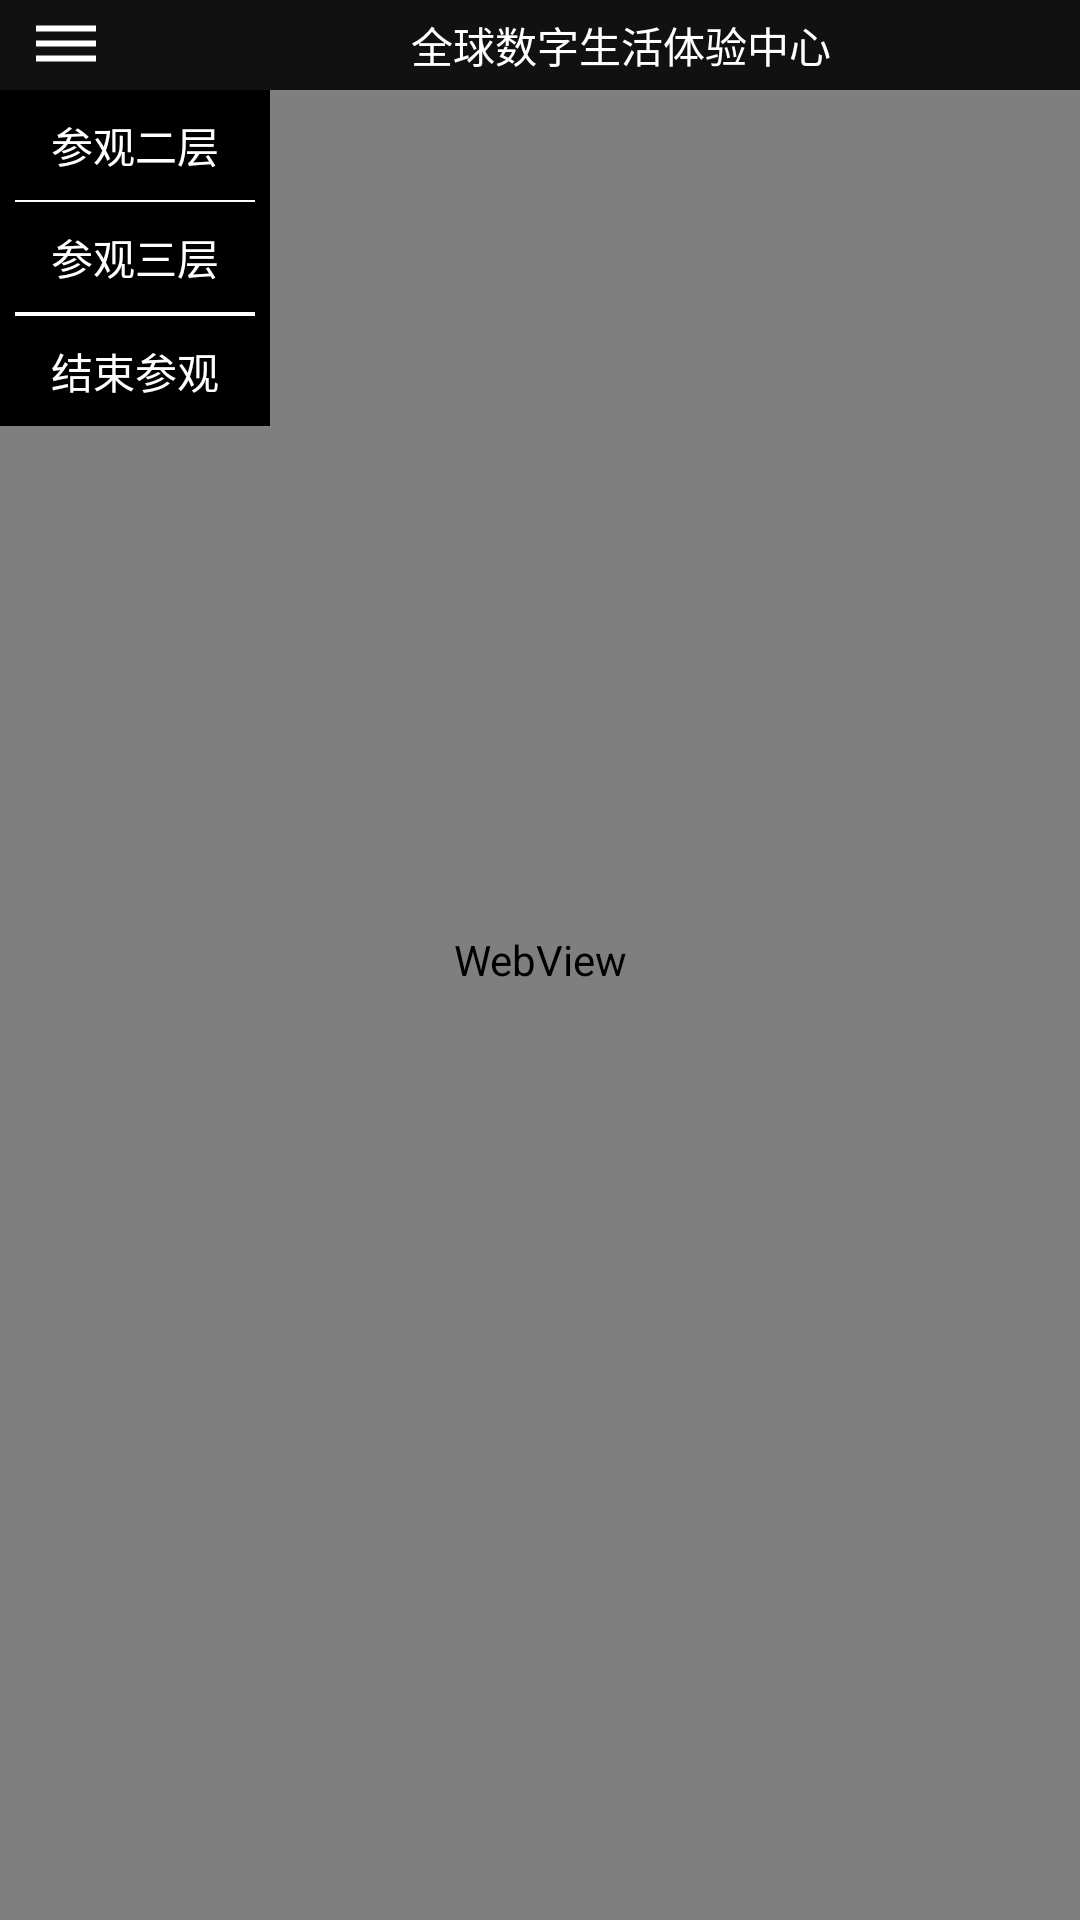

Icon click points for this 1080 x 1920 phone screenshot, format (x,y):
dehaze: (66,43)
